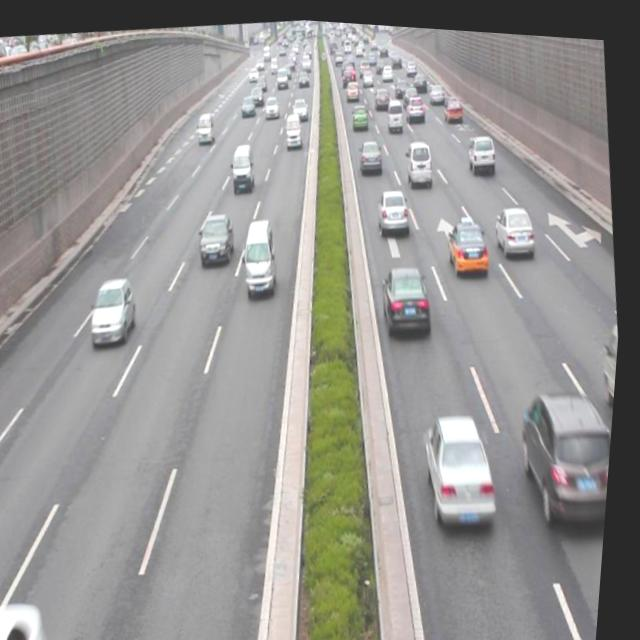car: (516, 375, 620, 527), (420, 401, 507, 528), (379, 256, 437, 332), (88, 273, 143, 349), (445, 213, 493, 272), (494, 198, 540, 257), (196, 209, 239, 263), (376, 180, 414, 233), (467, 127, 499, 171), (356, 132, 384, 173)
truck: (241, 213, 285, 296), (600, 314, 624, 408), (229, 137, 260, 194), (404, 133, 436, 184)
